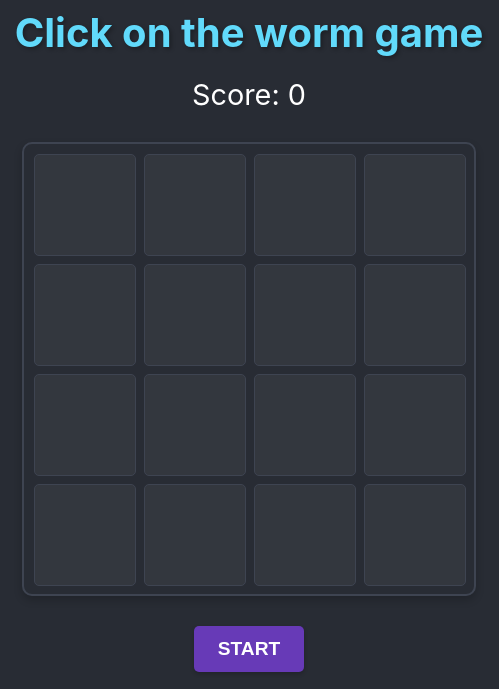
Game E2E Tests › starts the game, clicks the worm, and increments the score
Click the button "START": (250,649) [194,626,305,672]
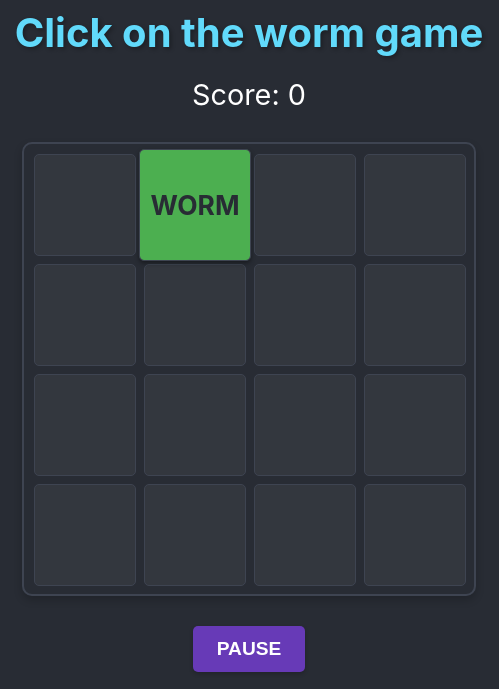
Check: the cell with class "worm" is shown
Click the cell with class "worm": (195,205) [139,149,251,261]
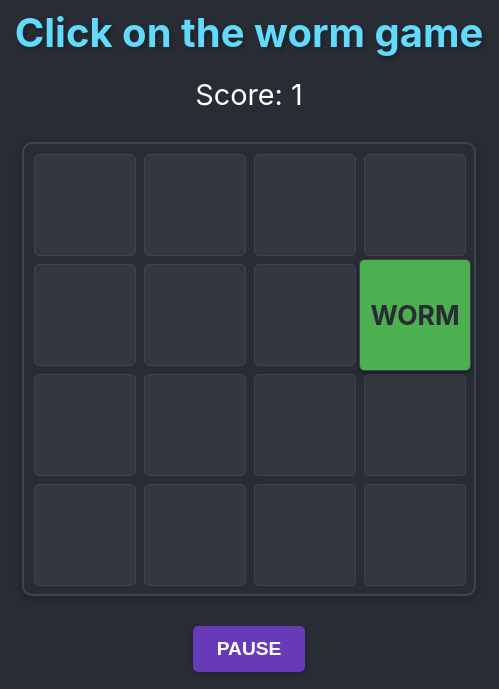
Check: the text "Score: 1" is shown, box [195,77,303,112]
